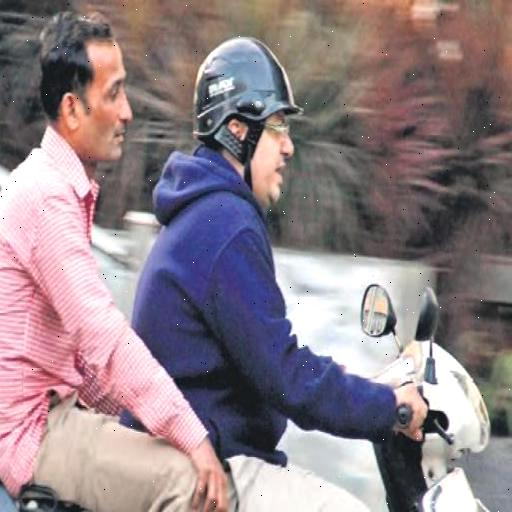helmet: (156, 12, 483, 508)
